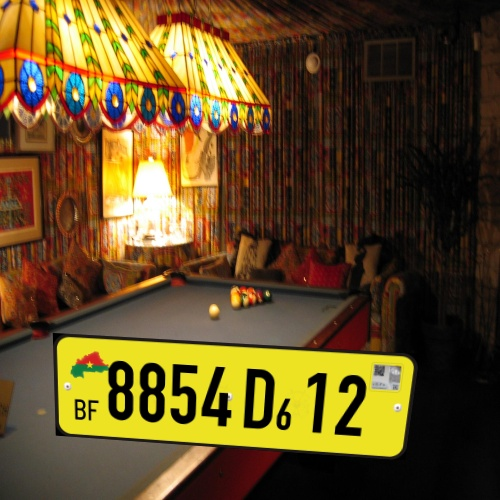plate: (43, 319, 424, 467)
